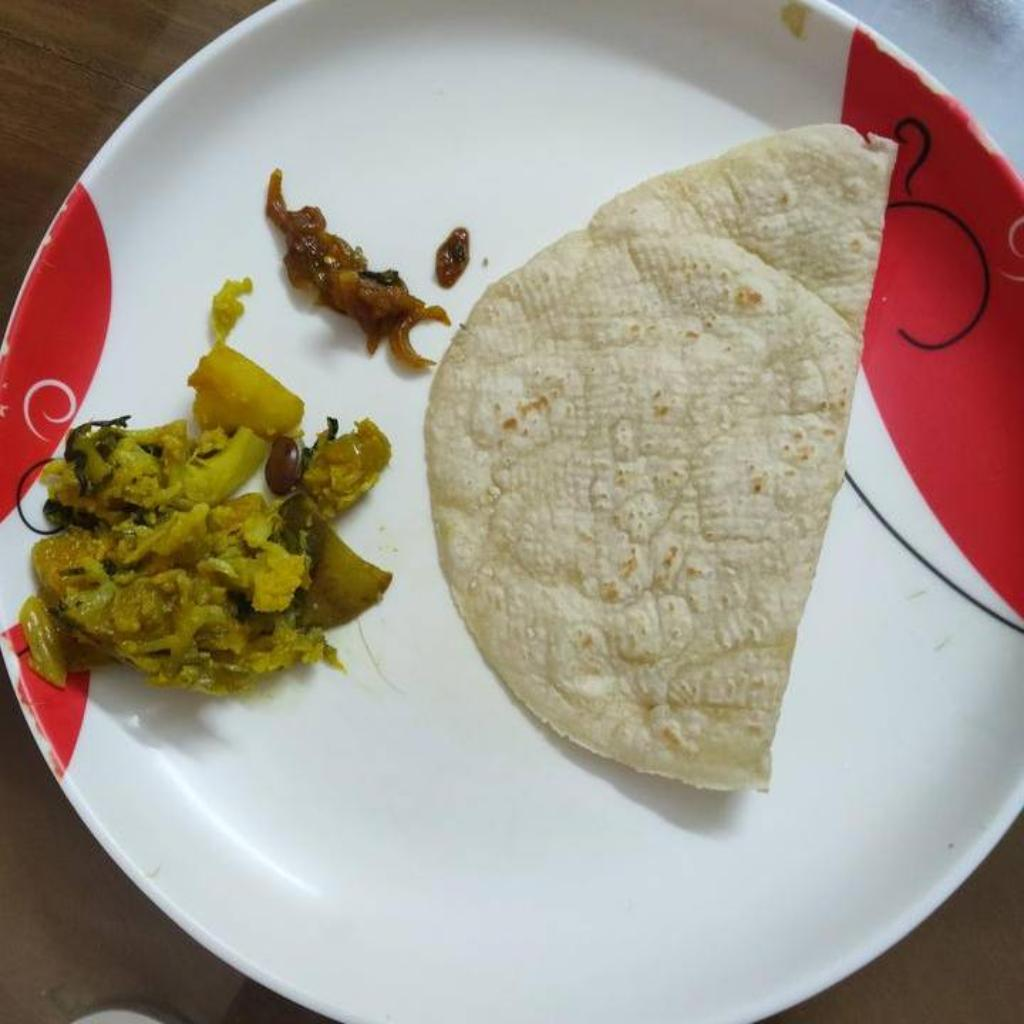achar: (264, 166, 446, 360)
ruti: (424, 124, 898, 794)
vaji: (20, 275, 391, 695)
